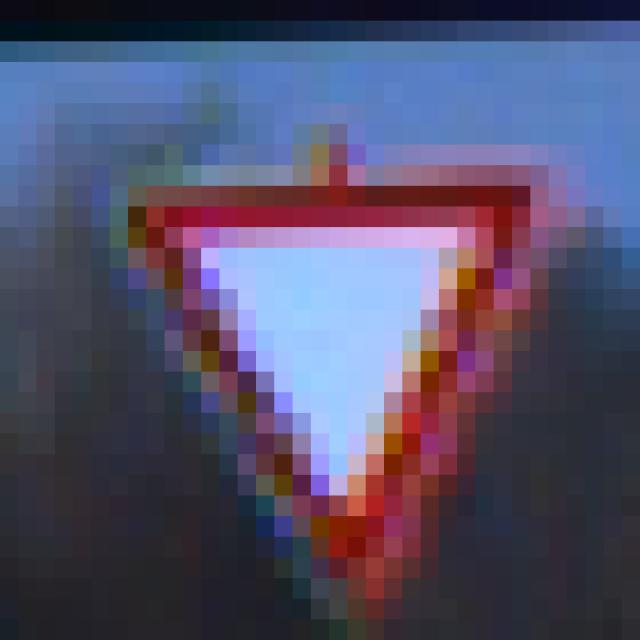Give Way: (111, 125, 550, 538)
